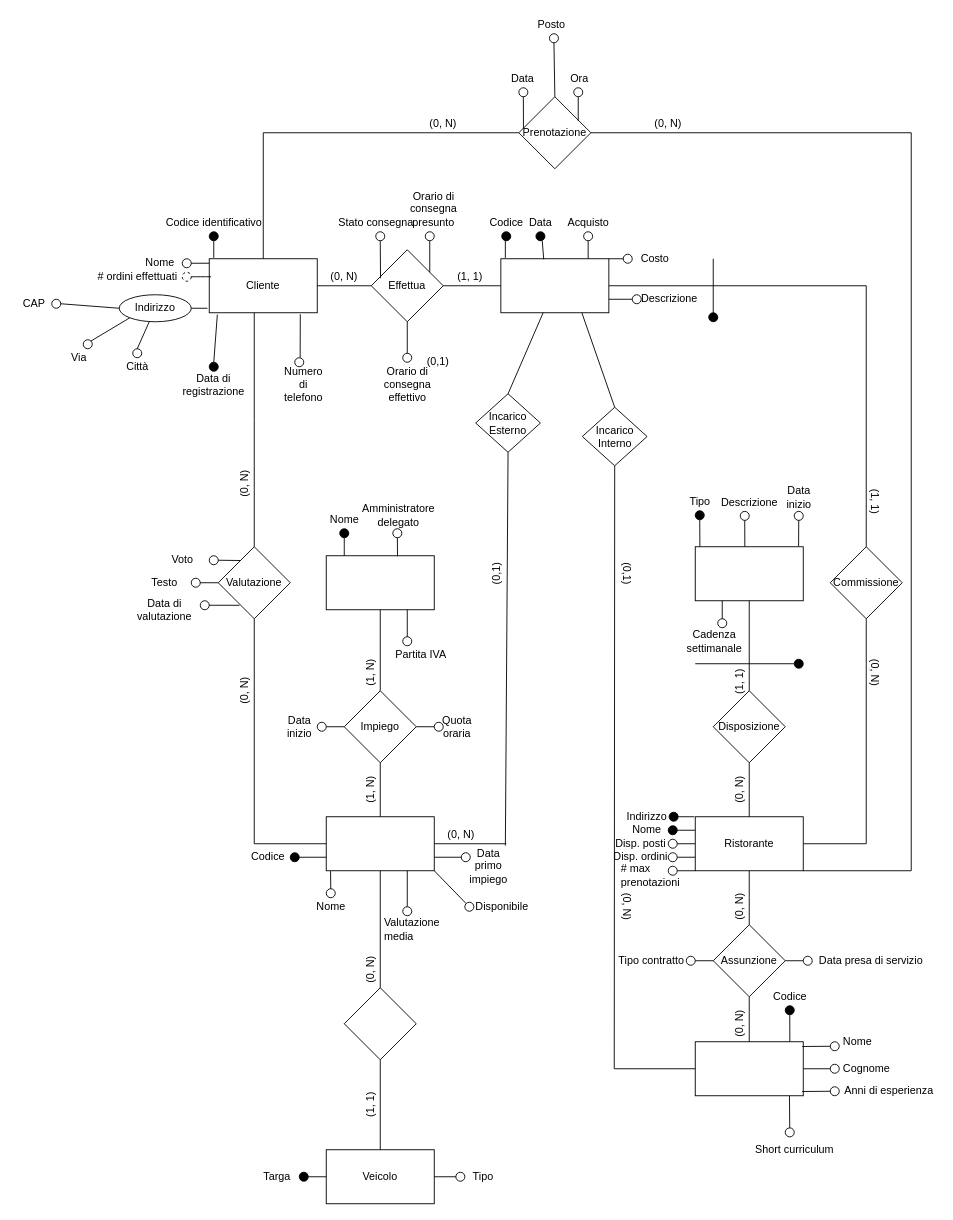
Image size: 953x1220. Some labels were removed from this diagram. The shapes that lost their labels are listed below. From the top down, each one's centre as x and y in pixels, then its label:
point (554, 285): Ordine
point (379, 582): Società esterna
point (748, 573): Servizio Delivery
point (379, 843): Rider
point (379, 1023): Appartenenza
point (748, 1068): Dipendente
